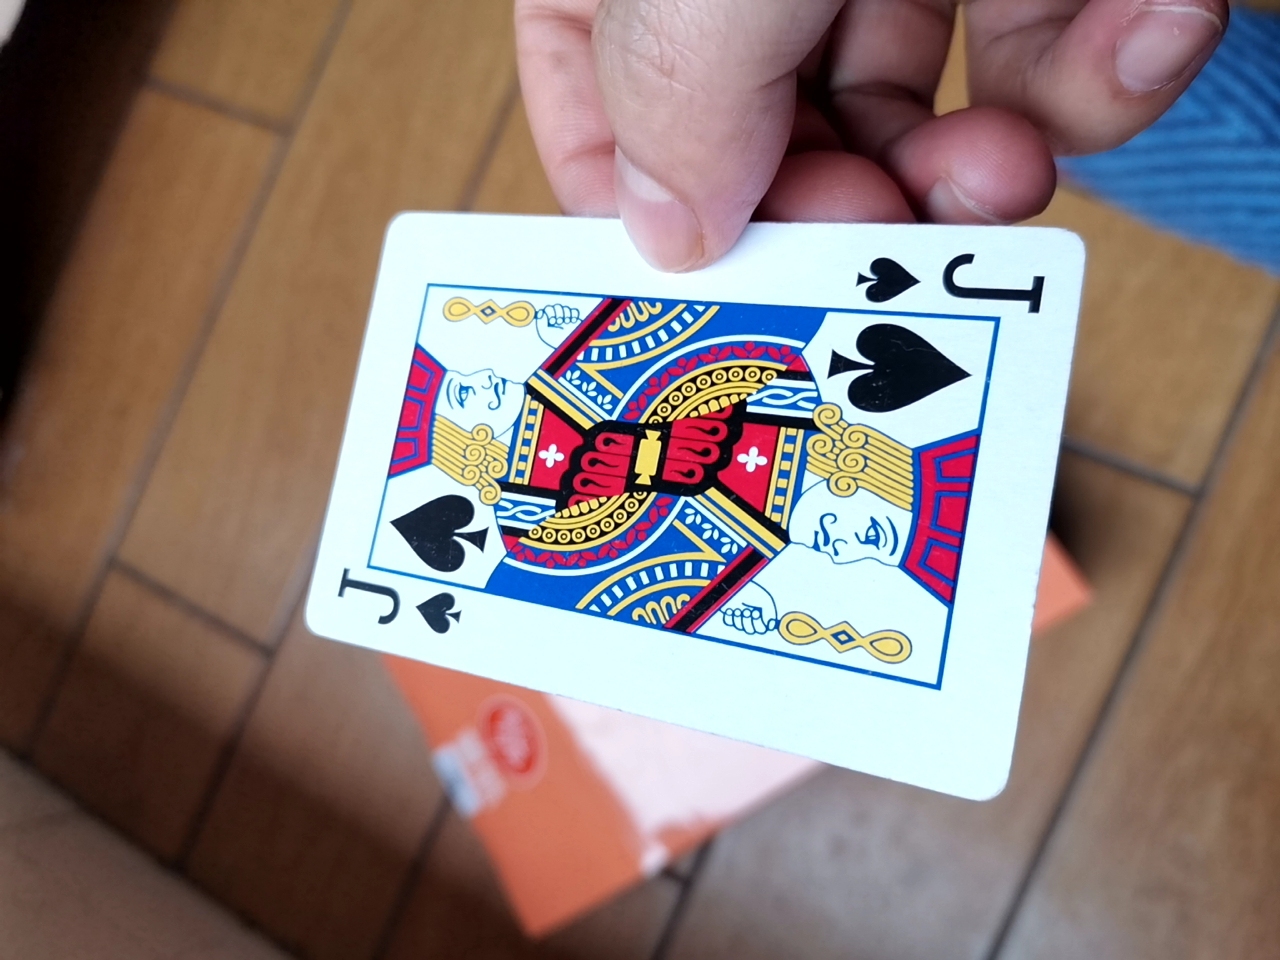ht j: (268, 197, 1085, 802)
